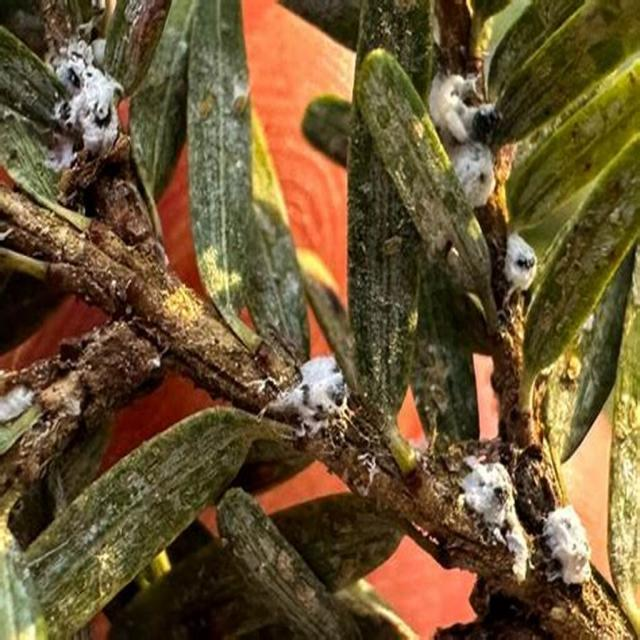Psyllid: (0, 408, 259, 639), (187, 0, 306, 358), (351, 48, 498, 329), (428, 46, 537, 308), (457, 438, 593, 598), (260, 356, 388, 494), (45, 34, 124, 170)
